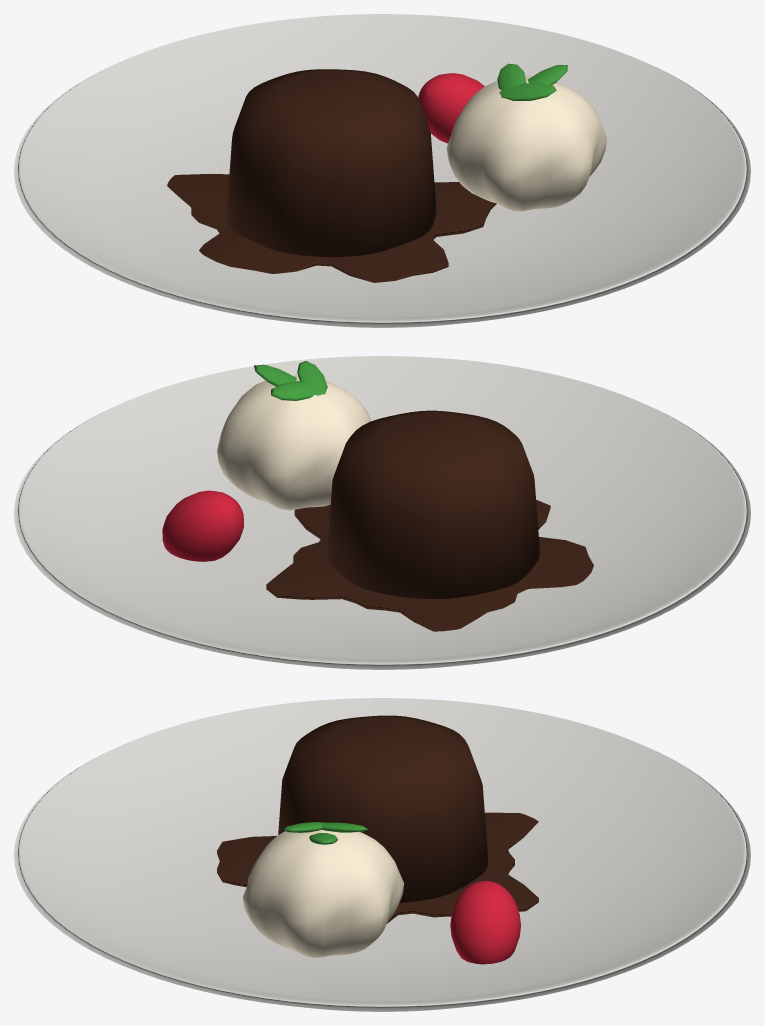
The model's file is petit-gateau.glb.
The picture shows the model from 3 angles, top to bottom: view 1: azimuth 30°, elevation 25°; view 2: azimuth 150°, elevation 25°; view 3: azimuth 270°, elevation 25°; orthographic projection.
Visible parts, largest first — view 1: plate, chocolate, iceCream, strawberry, mint; view 2: plate, chocolate, iceCream, strawberry, mint; view 3: plate, chocolate, iceCream, strawberry, mint.
Part boxes in pixels (x1,y1,x2,y2): plate: (14,14,750,327); chocolate: (167,69,496,282); iceCream: (446,76,606,211); strawberry: (418,73,484,143); mint: (497,63,567,100); plate: (14,356,750,669); chocolate: (266,410,593,631); iceCream: (217,375,370,510); strawberry: (162,490,243,561); mint: (254,361,327,400); plate: (14,698,750,1011); chocolate: (217,715,538,923); iceCream: (243,829,404,957); strawberry: (450,880,520,964); mint: (283,822,367,844).
Bounding box in the file's own units: 0.25 × 0.057 × 0.25.
